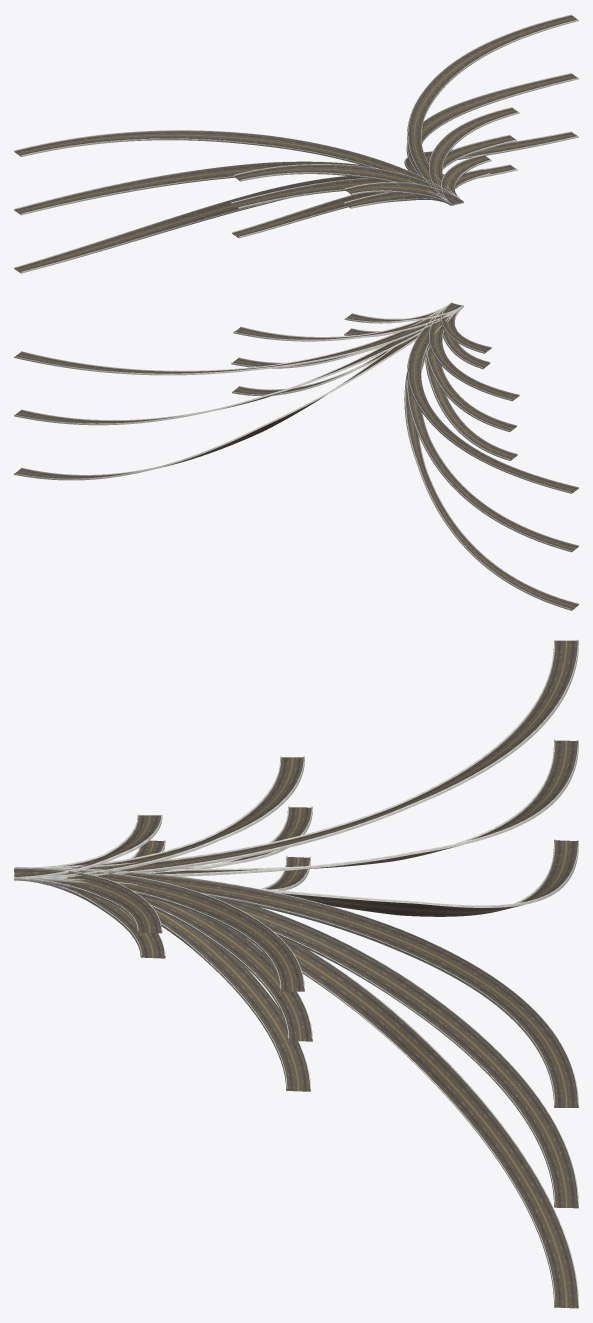
File: trackTurns.fbx
The picture shows the model from 3 angles, top to bottom: view 1: azimuth 30°, elevation 25°; view 2: azimuth 150°, elevation 25°; view 3: azimuth 270°, elevation 25°; orthographic projection. The views are drawn at different scales.
Parts seen in each view (by area): view 1: track_L90long, track_R90long, track_L90long80, track_L90long40, track_L90, track_R90long40, track_R90, track_L90down20, track_L90down40, track_L90short, track_R90long80, track_R90short (+2 smaller); view 2: track_L90long, track_R90long, track_L90long80, track_L90long40, track_R90long80, track_R90long40, track_L90, track_L90down40, track_R90, track_L90down20, track_R90down40, track_L90short (+3 smaller); view 3: track_R90long80, track_R90long40, track_R90long, track_L90long, track_R90, track_R90down40, track_L90long80, track_L90long40, track_R90down20, track_L90, track_R90short, track_L90short (+3 smaller).
Part boxes in pixels (bbox=[...]): track_L90long: bbox=[14, 130, 455, 200]; track_R90long: bbox=[407, 14, 578, 200]; track_L90long80: bbox=[14, 176, 365, 273]; track_L90long40: bbox=[14, 161, 366, 215]; track_L90: bbox=[233, 164, 458, 202]; track_R90long40: bbox=[406, 73, 578, 197]; track_R90: bbox=[428, 107, 519, 200]; track_L90down20: bbox=[231, 178, 463, 208]; track_L90down40: bbox=[232, 192, 463, 238]; track_L90short: bbox=[344, 182, 462, 205]; track_R90long80: bbox=[404, 131, 578, 203]; track_R90short: bbox=[440, 154, 491, 203]; track_L90long: bbox=[407, 308, 578, 493]; track_R90long: bbox=[14, 307, 457, 375]; track_L90long80: bbox=[404, 356, 578, 610]; track_L90long40: bbox=[406, 345, 578, 552]; track_R90long80: bbox=[14, 302, 456, 480]; track_R90long40: bbox=[14, 310, 454, 425]; track_L90: bbox=[428, 305, 519, 401]; track_L90down40: bbox=[425, 304, 517, 460]; track_R90: bbox=[233, 308, 458, 341]; track_L90down20: bbox=[426, 302, 516, 432]; track_R90down40: bbox=[232, 302, 457, 395]; track_L90short: bbox=[440, 303, 491, 353]; track_R90long80: bbox=[15, 874, 578, 1308]; track_R90long40: bbox=[216, 898, 578, 1208]; track_R90long: bbox=[29, 867, 578, 1107]; track_L90long: bbox=[15, 639, 578, 877]; track_R90: bbox=[22, 867, 304, 991]; track_R90down40: bbox=[14, 870, 310, 1091]; track_L90long80: bbox=[15, 839, 578, 916]; track_L90long40: bbox=[15, 739, 578, 880]; track_R90down20: bbox=[14, 867, 312, 1041]; track_L90: bbox=[28, 756, 304, 877]; track_R90short: bbox=[15, 867, 162, 933]; track_L90short: bbox=[16, 814, 162, 876].
Size of the model in its own units: 40027 by 8273 by 20501.
